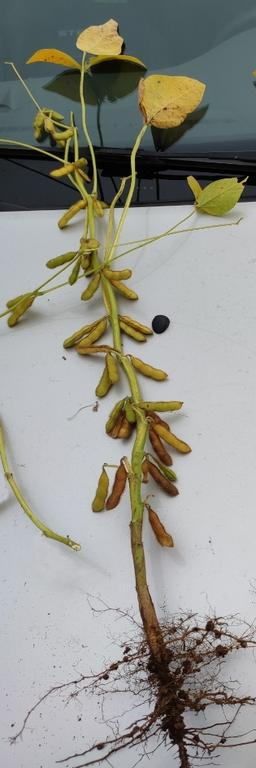pod: (128, 353, 170, 383), (105, 459, 129, 511), (155, 423, 192, 454), (88, 468, 111, 514), (57, 197, 88, 230), (148, 427, 173, 467), (61, 322, 94, 350), (135, 398, 185, 414), (104, 398, 125, 435), (80, 269, 102, 303), (45, 249, 78, 271), (104, 353, 120, 386), (48, 162, 76, 180), (100, 268, 134, 280), (53, 126, 74, 141)
soy: (6, 17, 250, 748)
